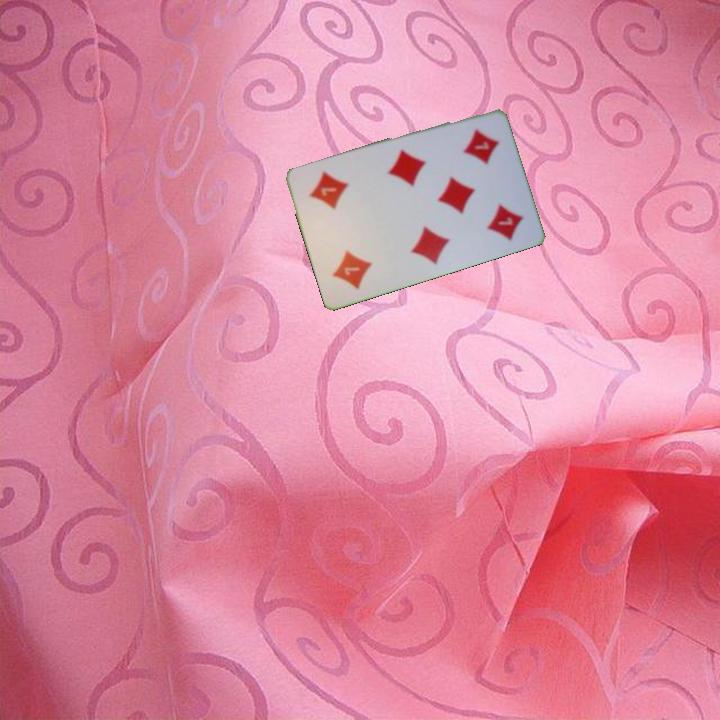d_7.png: (441, 114, 515, 194), (313, 219, 387, 299)
